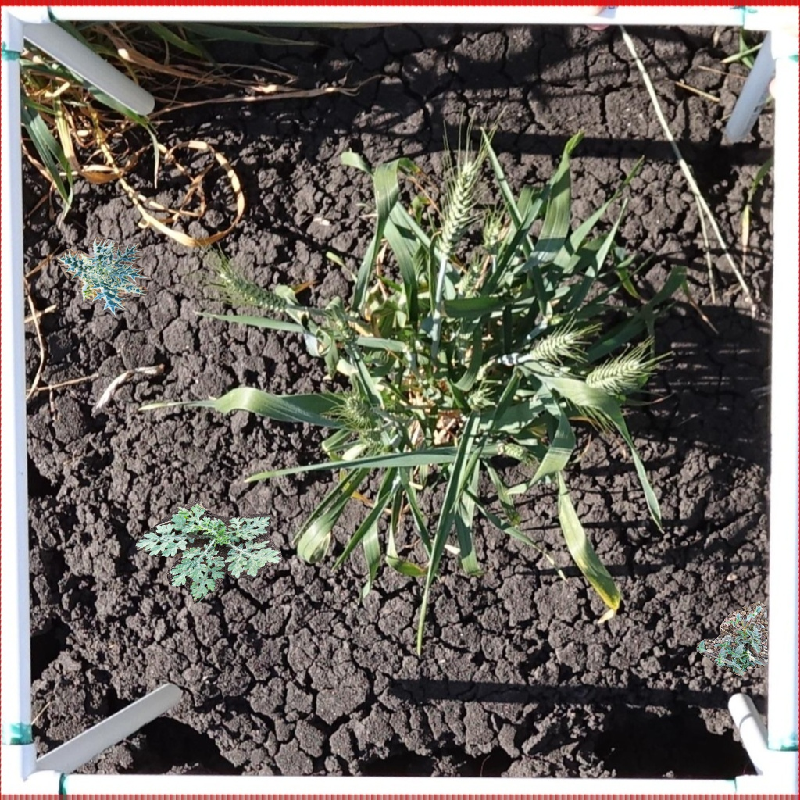spikelet: (431, 155, 481, 261), (582, 352, 651, 394), (224, 273, 293, 313), (524, 323, 583, 363), (339, 391, 375, 427)
weed: (142, 502, 284, 595), (56, 237, 152, 318), (694, 604, 766, 682)
